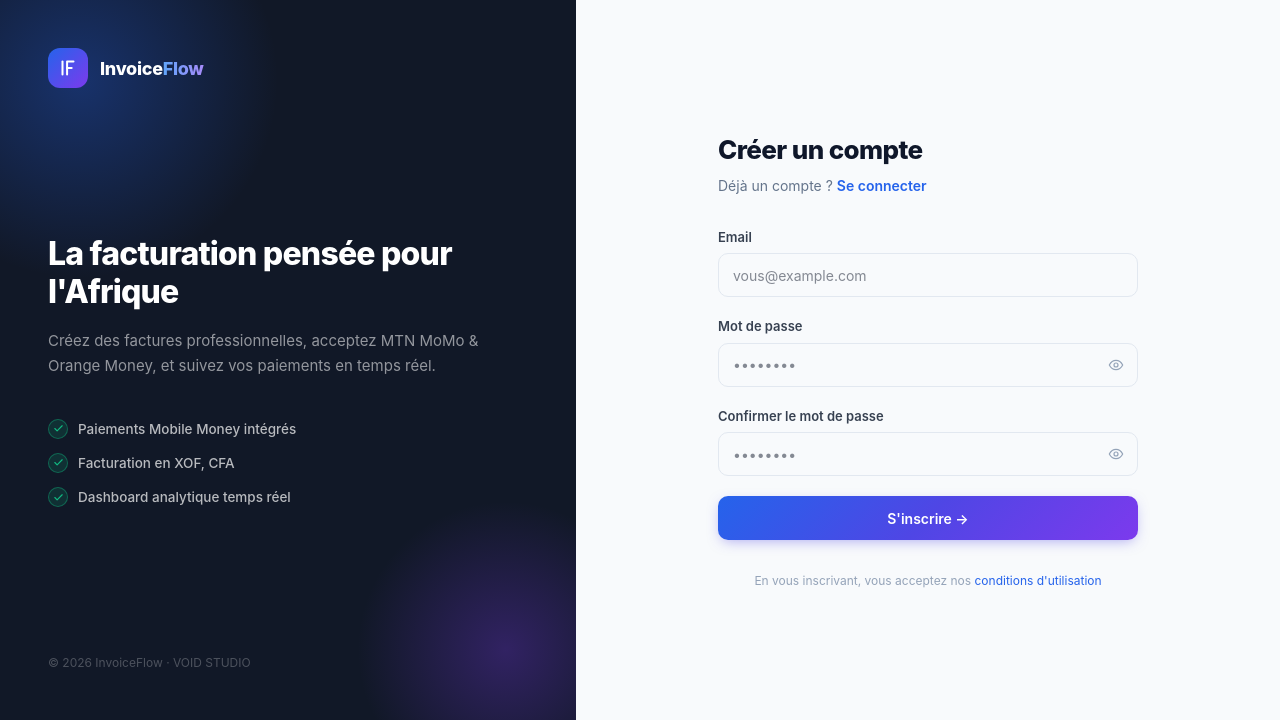
Test: RegisterPage › affiche les erreurs de validation (email invalide + mot de passe trop court) sans appeler signUp
Type "pas-un-email" into the field with placeholder "vous@example.com" at (928, 275), box x1=718 y1=253 x2=1138 y2=297
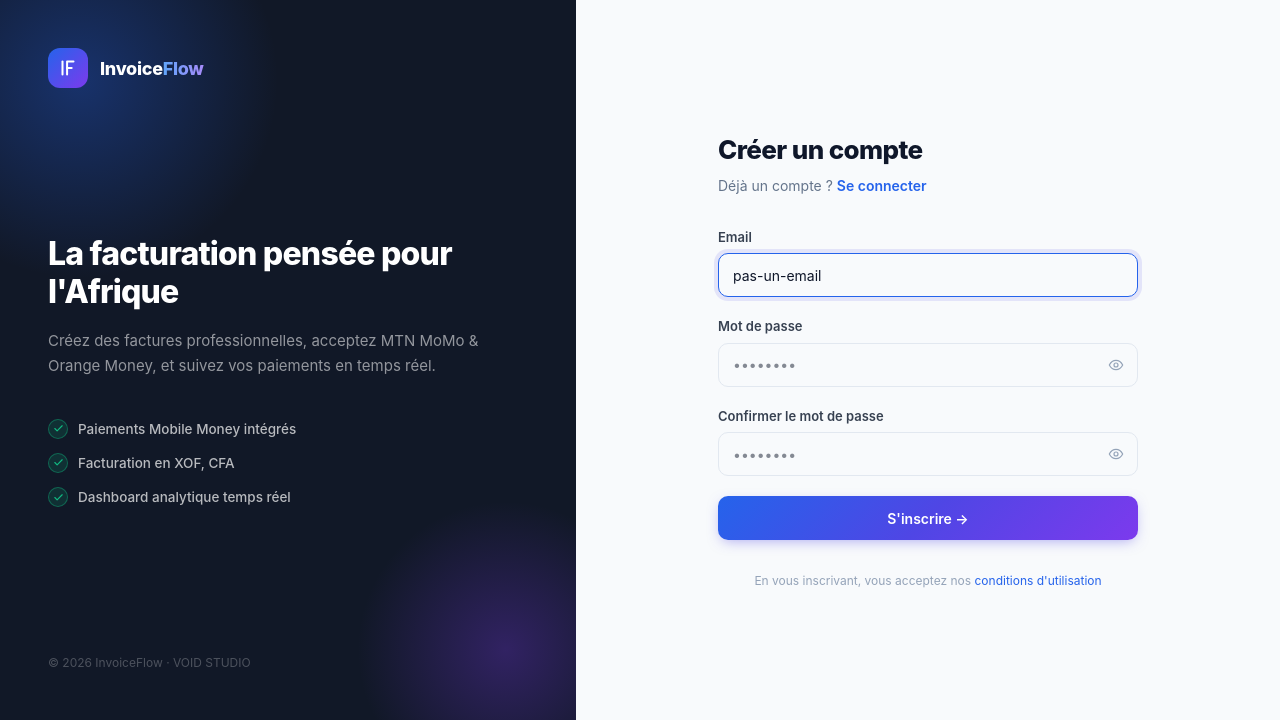
Type "123" into the 1st password field with placeholder "••••••••" at (928, 365), box x1=718 y1=343 x2=1138 y2=387
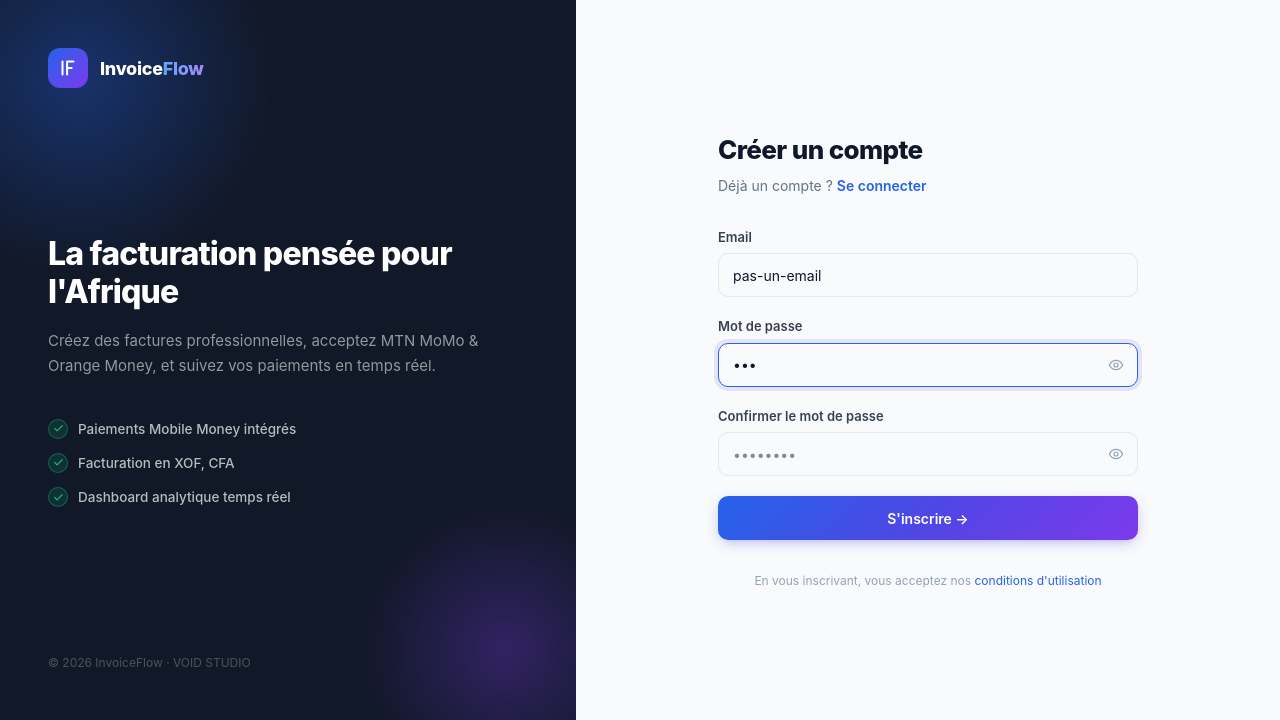
Click the button "S'inscrire →" at (928, 518), box x1=718 y1=496 x2=1138 y2=540
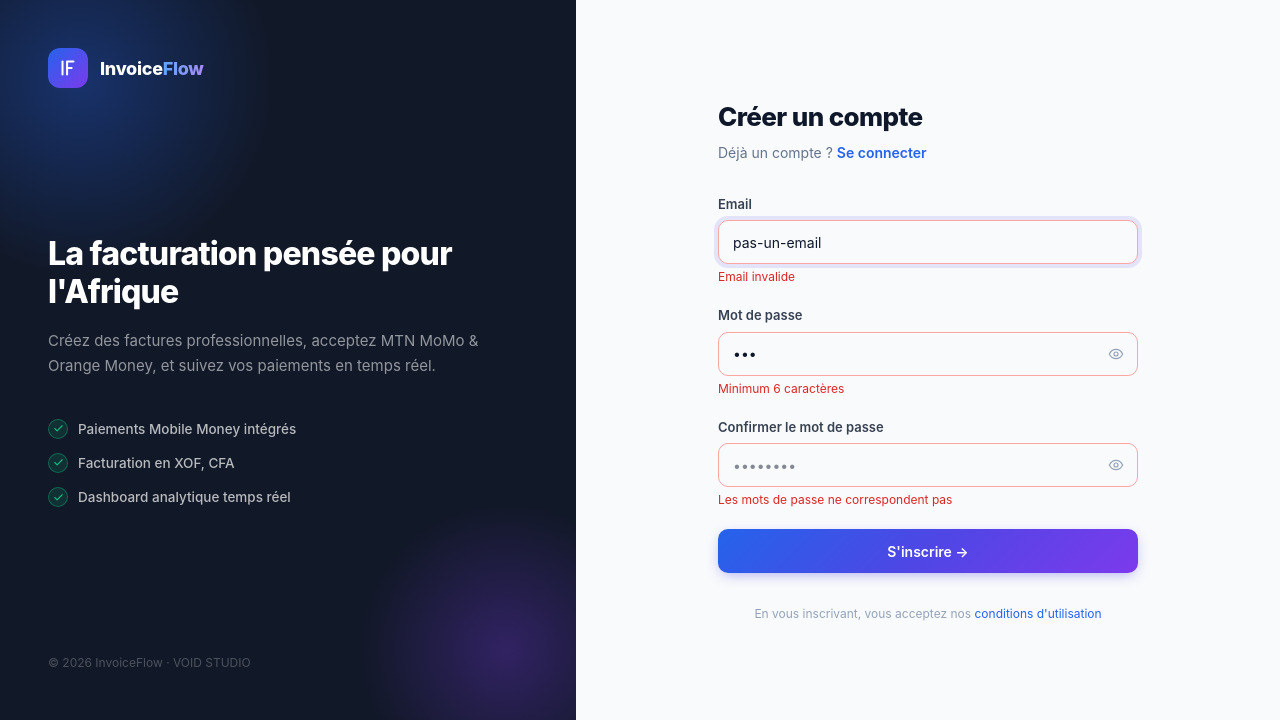
Expected: the text "Email invalide" is shown, x1=718 y1=269 x2=795 y2=284
Expected: the text "Minimum 6 caractères" is shown, x1=718 y1=381 x2=844 y2=396
